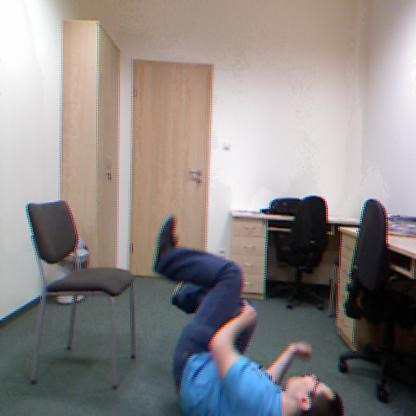fall: (151, 229, 343, 416)
